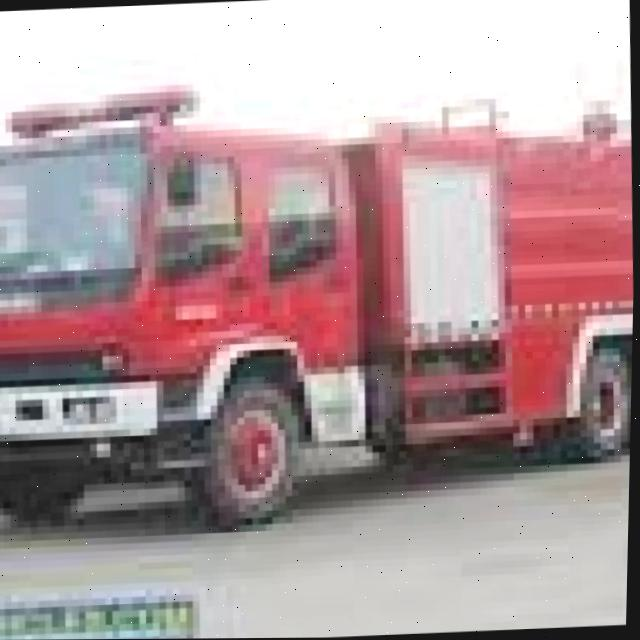emergency: (0, 26, 639, 541)
